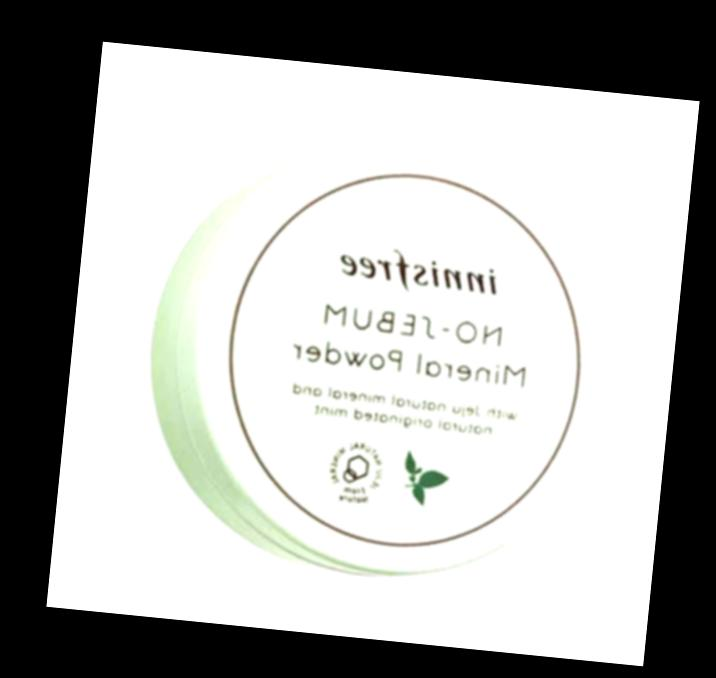cosmetic: (140, 127, 617, 588)
